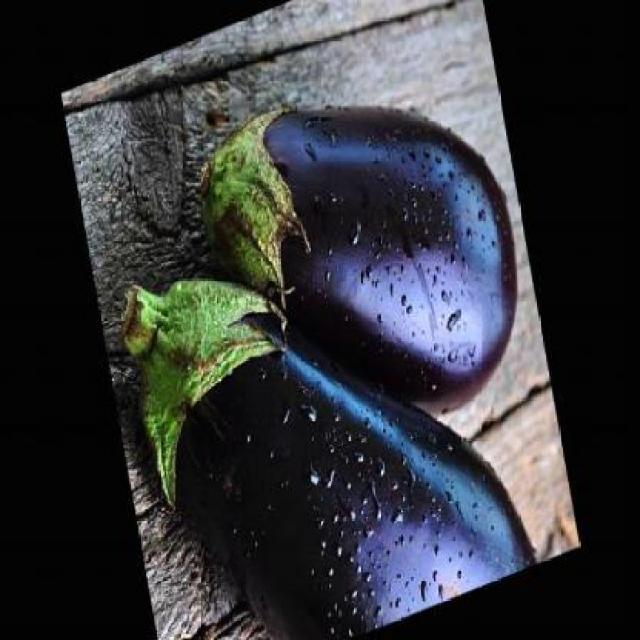eggplant: (117, 274, 538, 638), (186, 96, 528, 420)
